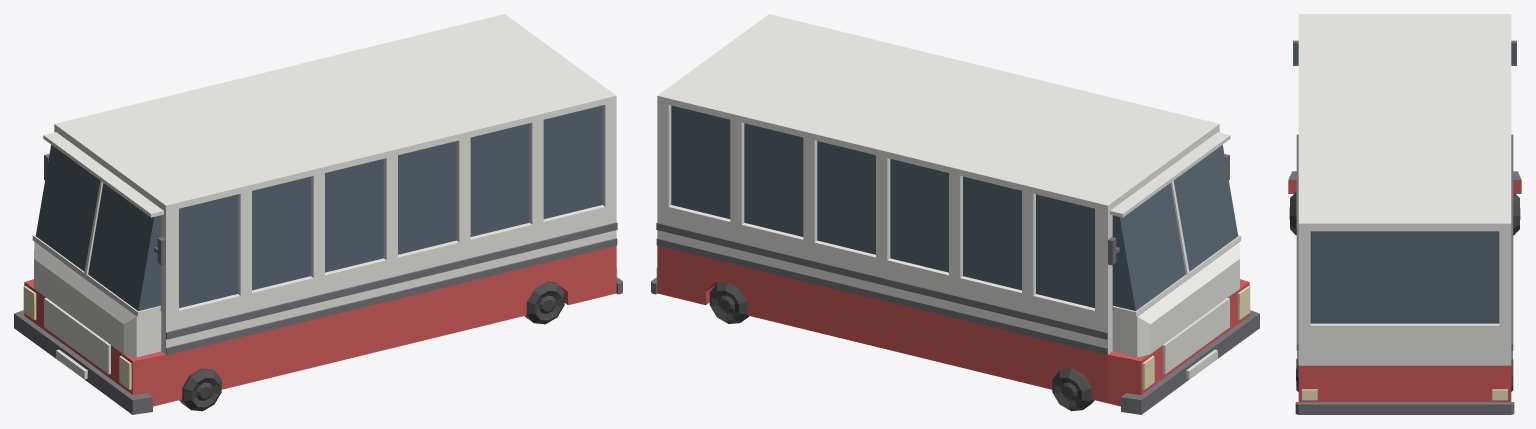
File: bus.glb
The picture shows the model from 3 angles, left to right: view 1: azimuth 30°, elevation 25°; view 2: azimuth 150°, elevation 25°; view 3: azimuth 270°, elevation 25°; orthographic projection. The views are drawn at different scales.
Parts seen in each view (by area): view 1: Bus_Cube.001, FrontWheels_Cylinder.006, BackWheels_Cylinder.007; view 2: Bus_Cube.001, FrontWheels_Cylinder.006, BackWheels_Cylinder.007; view 3: Bus_Cube.001, FrontWheels_Cylinder.006.
Boxes of the visible parts, x1,y1,x2,y2 form: Bus_Cube.001: [14, 14, 622, 414]; FrontWheels_Cylinder.006: [179, 368, 221, 411]; BackWheels_Cylinder.007: [524, 281, 564, 324]; Bus_Cube.001: [651, 14, 1259, 414]; FrontWheels_Cylinder.006: [1052, 368, 1094, 411]; BackWheels_Cylinder.007: [709, 281, 749, 323]; Bus_Cube.001: [1288, 14, 1521, 414]; FrontWheels_Cylinder.006: [1289, 192, 1520, 235].
Size of the model in its own units: 4.09 by 1.68 by 1.74.
